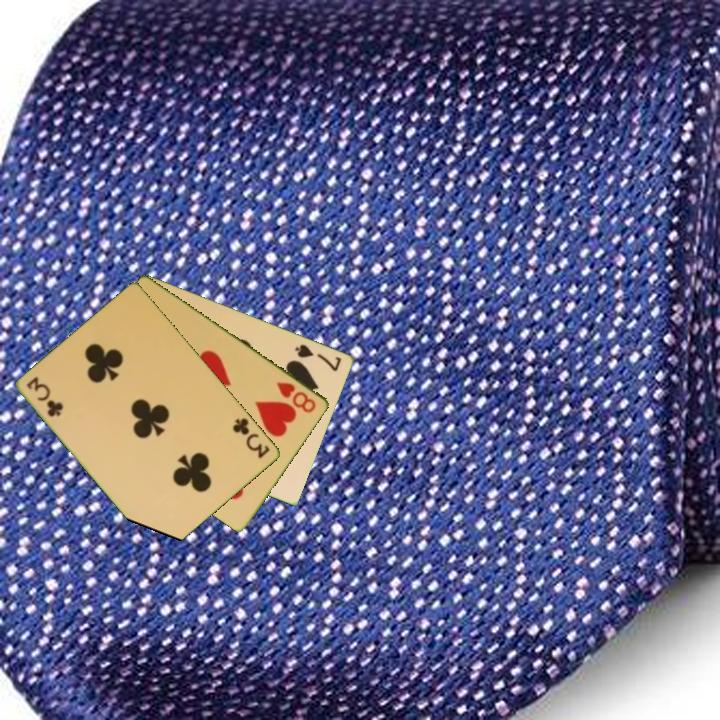3c: (229, 414, 273, 461), (23, 373, 66, 420)
7s: (292, 340, 345, 374)
8h: (273, 378, 320, 416)
